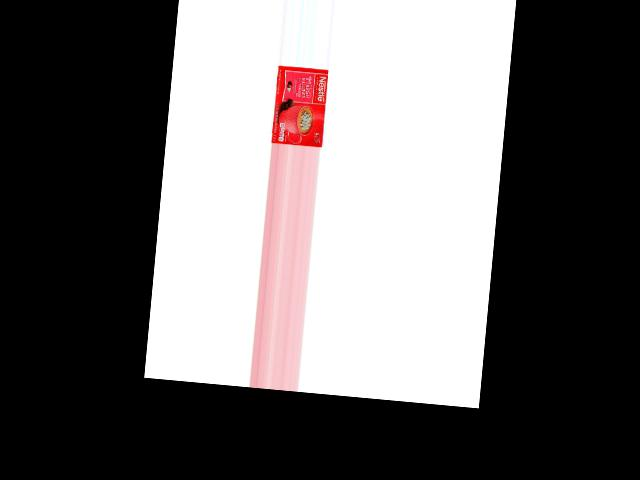chocolate: (268, 67, 326, 148)
